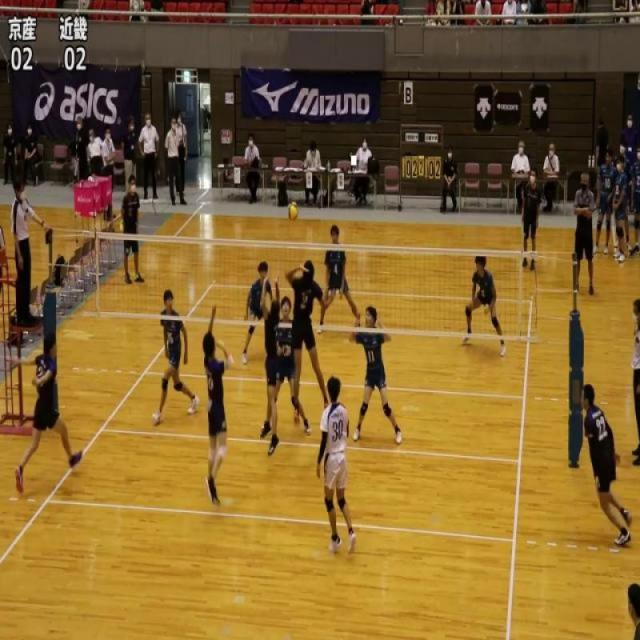volleyball: (287, 200, 299, 222)
